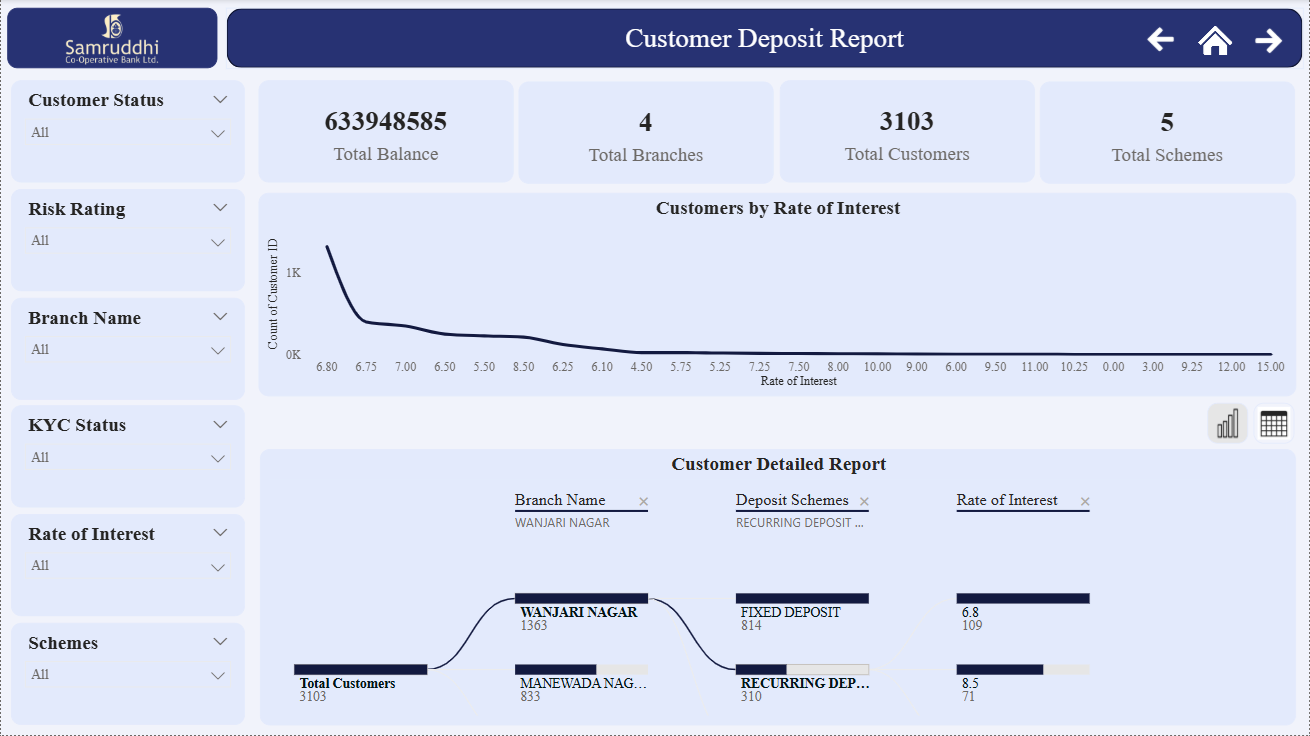

This screenshot's page, from the dashboard's own definition file:
{"tool":"powerbi","page":{"name":"Customer Deposit Report","canvas":[1280,720],"ordinal":5},"visuals":[{"type":"decompositionTreeVisual","title":"Customer Detailed Report","fields":{"Analyze":["CountNonNull(TD DUMP.Customer ID)"],"ExplainBy":["TD DUMP.Branch Name","TD DUMP.Type of Term Deposit Scheme","TD DUMP.Rate of Interest"]},"box":[253.1,440.2,1013.7,270.2],"z":0},{"type":"lineChart","title":"Customers by Rate of Interest","fields":{"Category":["TD DUMP.Rate of Interest"],"Y":["CountNonNull(TD DUMP.Customer ID)"]},"box":[251.9,189.5,1015,199.3],"z":2000},{"type":"slicer","fields":{"Values":["TD DUMP.Risk Rating"]},"box":[9.8,185.6,228.7,100],"z":3000},{"type":"slicer","fields":{"Values":["TD DUMP.Whether Dormant/Active"]},"box":[9.8,79.5,228.7,100],"z":4000},{"type":"actionButton","box":[1225.3,395.2,40,40],"z":4000,"group":"g2"},{"type":"slicer","fields":{"Values":["TD DUMP.Branch Name"]},"box":[9.8,291.8,228.7,100],"z":5000},{"type":"actionButton","box":[1180,395.2,40,40],"z":5000,"group":"g1"},{"type":"slicer","fields":{"Values":["TD DUMP.KYC Status"]},"box":[9.8,397.9,228.7,100],"z":6000},{"type":"slicer","fields":{"Values":["TD DUMP.Rate of Interest"]},"box":[9.8,504.1,228.7,100],"z":7000},{"type":"slicer","fields":{"Values":["TD DUMP.Type of Term Deposit Scheme"]},"box":[9.8,610.2,228.7,100.3],"z":8000},{"type":"card","fields":{"Values":["Sum(TD DUMP.Balance As On 23-NOV-2023)"]},"box":[251.9,79.5,249.5,100.3],"z":9000},{"type":"card","fields":{"Values":["Count(TD DUMP.Branch Code)"]},"box":[506.7,80.9,249.5,100],"z":10000},{"type":"card","fields":{"Values":["CountNonNull(TD DUMP.Customer ID)"]},"box":[761.4,79.7,249.5,100],"z":11000},{"type":"card","fields":{"Values":["Count(TD DUMP.Scheme code)"]},"box":[1016.2,80.7,249.5,100.3],"z":12000},{"type":"group","id":"g1","title":"Group 1","box":[1180,395.2,40,40],"z":13000},{"type":"group","id":"g2","title":"Group 2","box":[1225.3,395.2,40.4,40.4],"z":14000},{"type":"group","id":"g3","title":"Group 1","box":[1.2,0,215.2,77],"z":15000},{"type":"group","id":"g4","title":"Group 3","box":[219.8,0,1060.2,80.7],"z":16000},{"type":"shape","box":[5.5,8.3,205.9,59],"z":19000,"group":"g3"},{"type":"image","box":[1.2,0,215.2,77],"z":20000,"group":"g3"},{"type":"shape","box":[219.8,8.6,1054.1,59.9],"z":23000,"group":"g4"},{"type":"image","box":[1147.9,0,79.5,80.7],"z":25000,"group":"g4"},{"type":"image","box":[1094.1,0,79.5,79.5],"z":26000,"group":"g4"},{"type":"image","box":[1200.5,1.2,79.5,79.5],"z":27000,"group":"g4"}]}

Visuals, with their boxes in screenshot pixels (x1, y1, x2, y2), scaled from the page's 1280x720 canvas onto the 1310x736 screenshot:
"Customer Detailed Report" decompositionTreeVisual: [259,450,1296,726]
"Customers by Rate of Interest" lineChart: [258,194,1297,397]
slicer - TD DUMP.Risk Rating: [10,190,244,292]
slicer - TD DUMP.Whether Dormant/Active: [10,81,244,183]
actionButton: [1254,404,1295,445]
slicer - TD DUMP.Branch Name: [10,298,244,401]
actionButton: [1208,404,1249,445]
slicer - TD DUMP.KYC Status: [10,407,244,509]
slicer - TD DUMP.Rate of Interest: [10,515,244,618]
slicer - TD DUMP.Type of Term Deposit Scheme: [10,624,244,726]
card - Sum(TD DUMP.Balance As On 23-NOV-2023): [258,81,513,184]
card - Count(TD DUMP.Branch Code): [519,83,774,185]
card - CountNonNull(TD DUMP.Customer ID): [779,81,1035,184]
card - Count(TD DUMP.Scheme code): [1040,82,1295,185]
"Group 1" group: [1208,404,1249,445]
"Group 2" group: [1254,404,1295,445]
"Group 1" group: [1,0,221,79]
"Group 3" group: [225,0,1309,82]
shape: [6,8,216,69]
image: [1,0,221,79]
shape: [225,9,1304,70]
image: [1175,0,1256,82]
image: [1120,0,1201,81]
image: [1229,1,1309,82]
